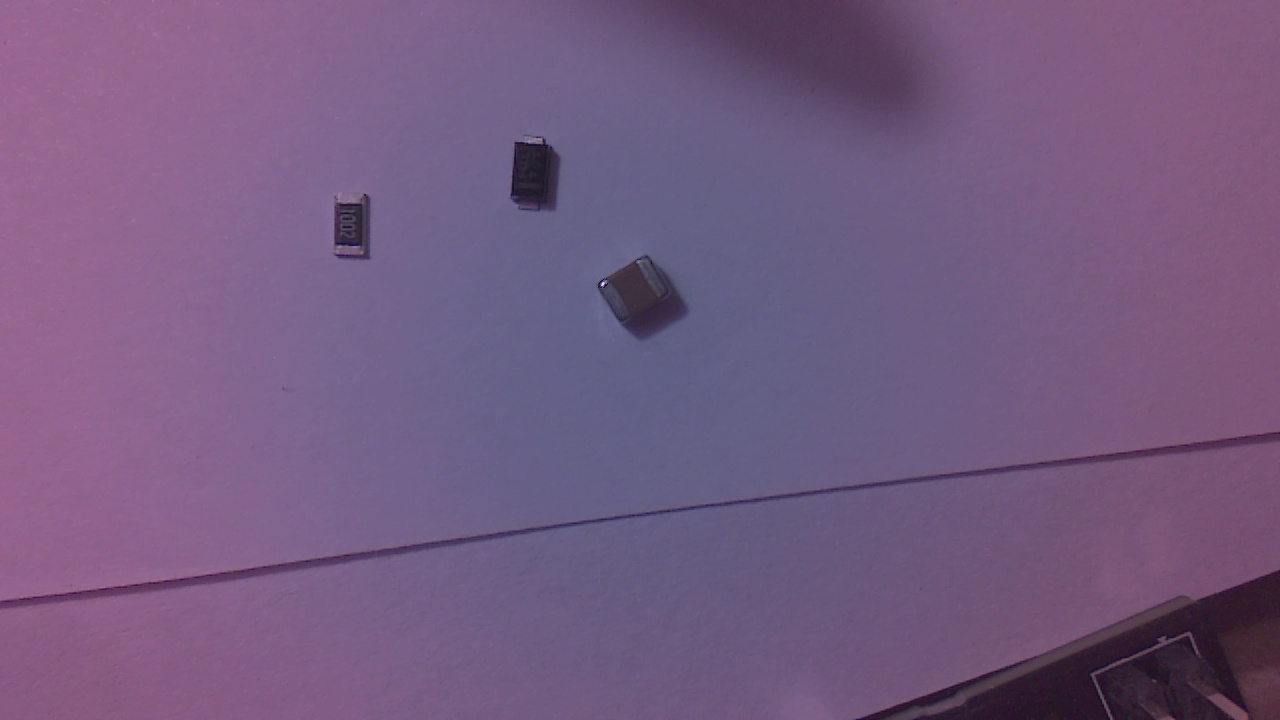Condensator: (600, 258, 680, 331)
Diode: (515, 141, 559, 220)
Resistor: (337, 195, 374, 262)
